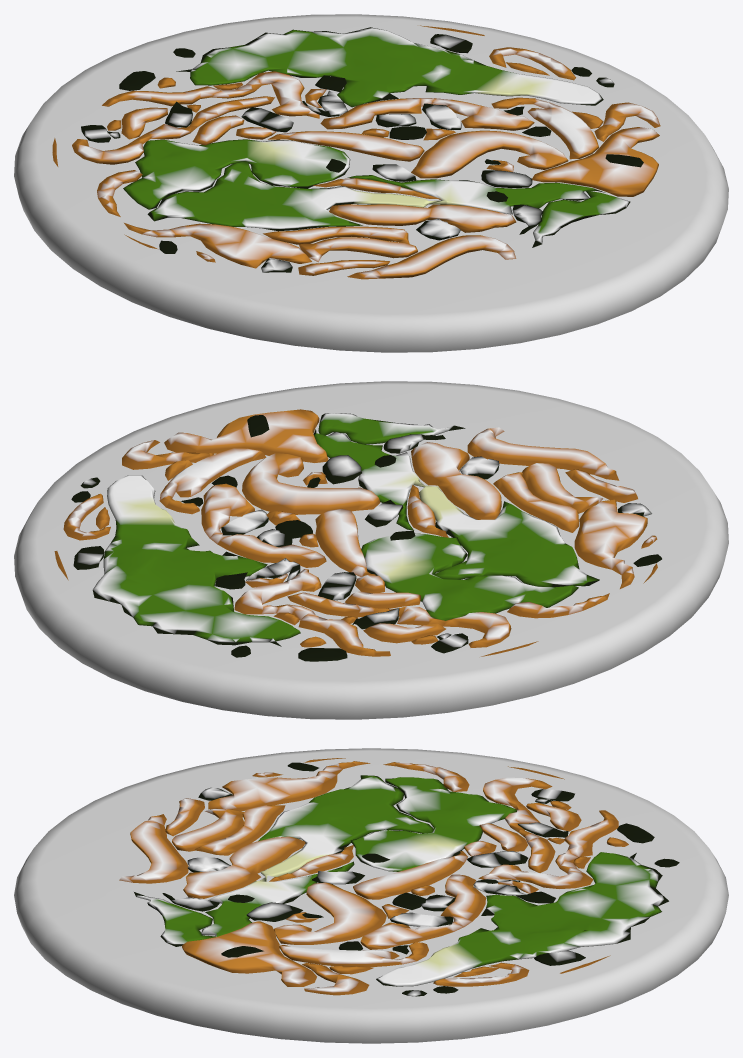
Rendered from SM_D02_wok.fbx.
3 views of the same model, one above another, from view 1: azimuth 30°, elevation 25°; view 2: azimuth 150°, elevation 25°; view 3: azimuth 270°, elevation 25° (orthographic). The views are drawn at different scales.
Visible parts, largest first — view 1: SM_D02_wok; view 2: SM_D02_wok; view 3: SM_D02_wok.
Part boxes in pixels (x1,y1,x2,y2): SM_D02_wok: (14, 14, 728, 352); SM_D02_wok: (14, 381, 728, 719); SM_D02_wok: (14, 748, 728, 1043).
Size of the model in its own units: 0.158 by 0.0112 by 0.1737.
